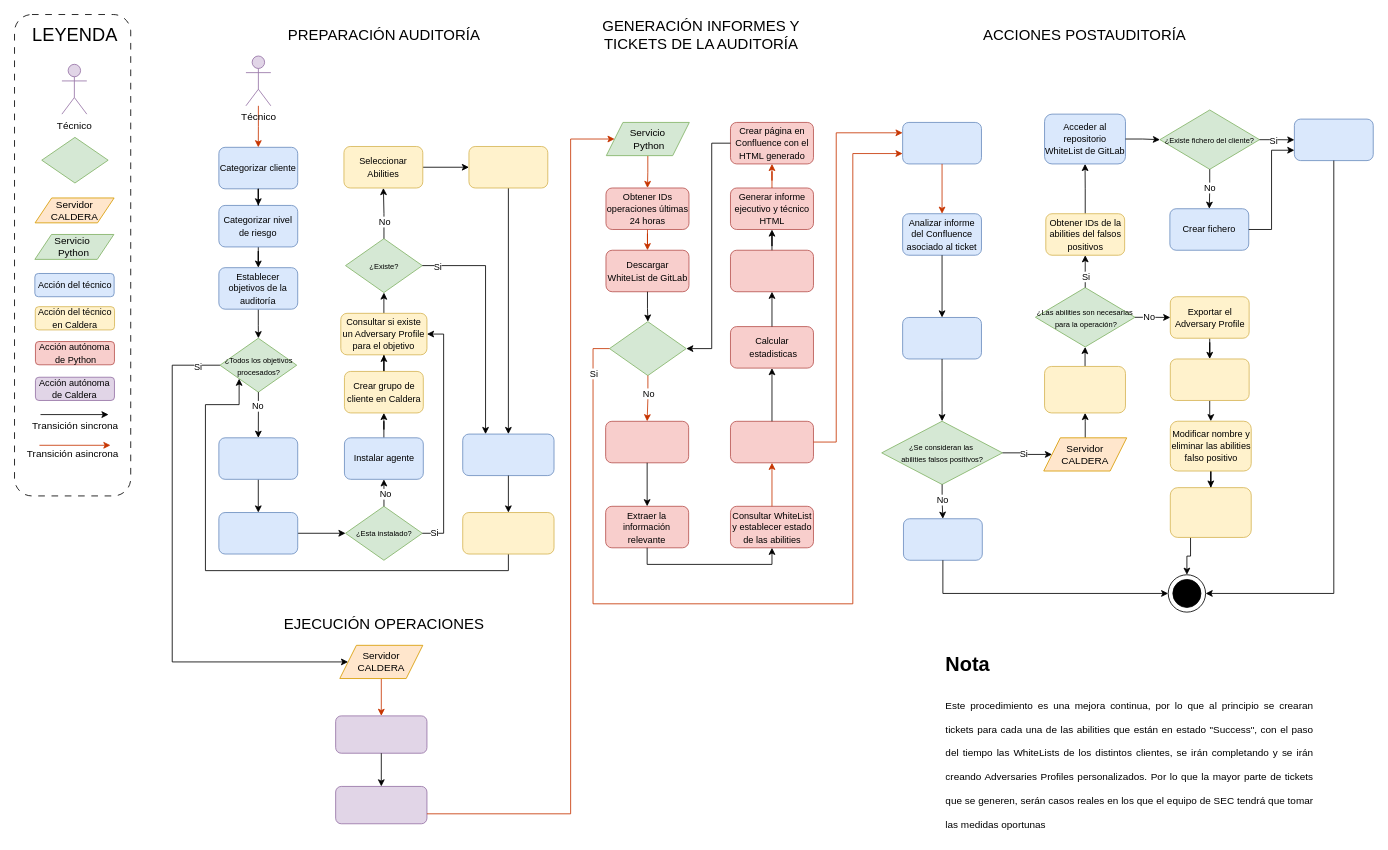
Some shapes in this 1388 by 850 pixel diagram are drawn without their labels. Each missing label, with the centre of its shape:
"Analizar abilities en estado positivo" belongs at (941,338).
"Apuntar IDs de las abilities falsos positivos" belongs at (1333,139).
"Comprobar si tienen el agente" belongs at (258,533).
"Configurar Scheduler para la ejecución del Adversary Profile" belongs at (508,533).
"Crear Adversary Profile" belongs at (508,167).
"Decisión" belongs at (74,160).
"Ejecutar Adversaries Profiles según Scheduler" belongs at (381,734).
"Generar gráficos" belongs at (771,270).
"Generar informes JSON de la operación" belongs at (381,805).
"Generar tickets Jira" belongs at (771,441).
"Importar el Adversary Profile exportado" belongs at (1209,379).
"Localizar el Adversary Profile de los falsos positivos" belongs at (1084,389).
"Modificar el Scheduler para ejecutar el nuevo Adversary Profile" belongs at (1210,512).
"Obtener reporte y event log de la operación" belongs at (647,441).
"Planificar frecuencia de ejecución del Adversary Profile" belongs at (508,454).
"Realizar acciones necesarias para parchear el error" belongs at (942,539).
"Recibir tickets Jira" belongs at (941,143).
"Seleccionar equipos para el objetivo" belongs at (258,458).
"¿Todos los IDs procesados ?" belongs at (647,348).
